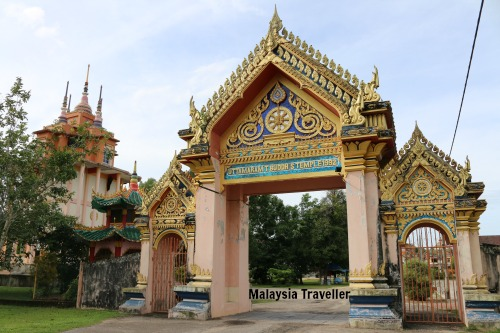Buddhist Temple: (136, 8, 393, 302)
